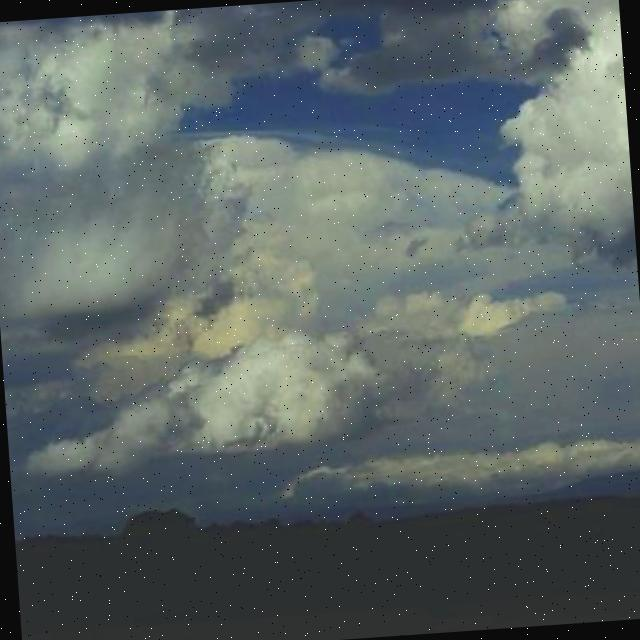Cu: (1, 1, 640, 485)
